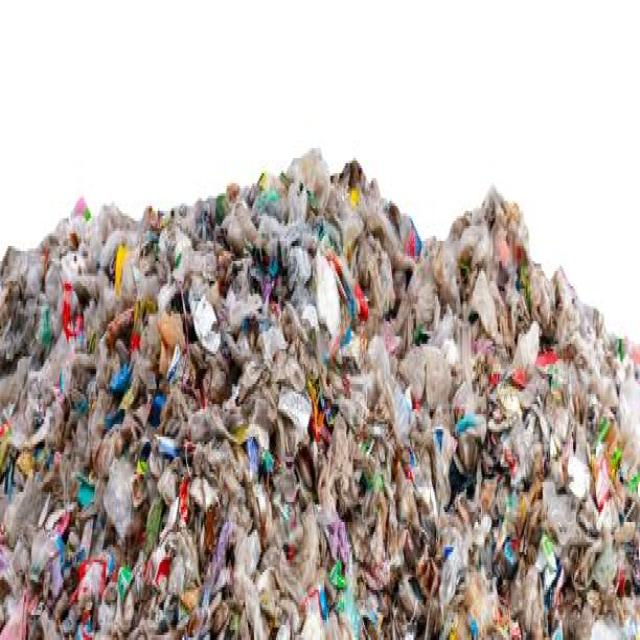plastic: (53, 231, 590, 587)
